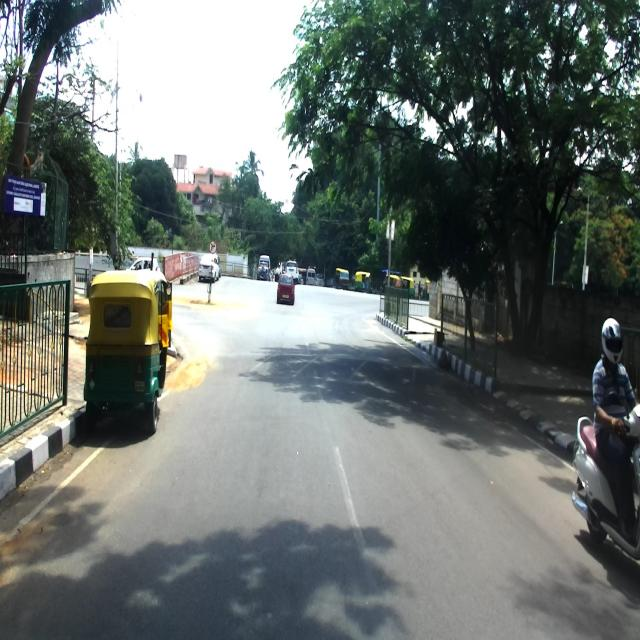autorickshaw: (83, 267, 171, 435)
scooter: (570, 390, 640, 566)
